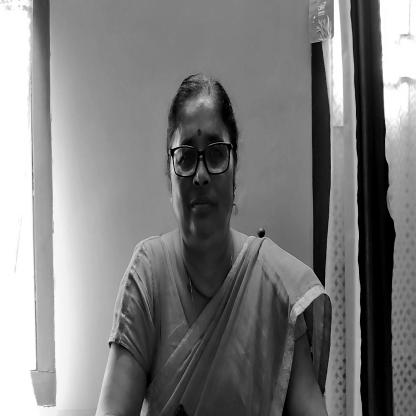Normal: (169, 83, 241, 246)
